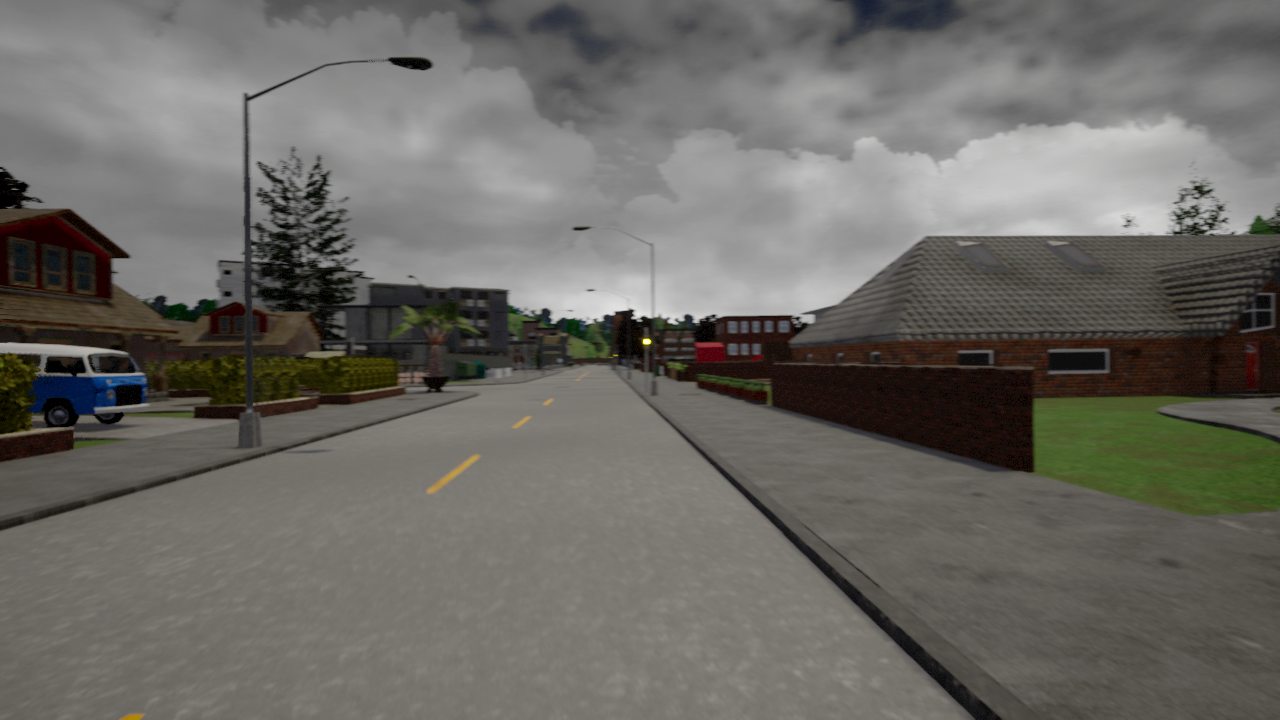yellow: (641, 331, 652, 354)
